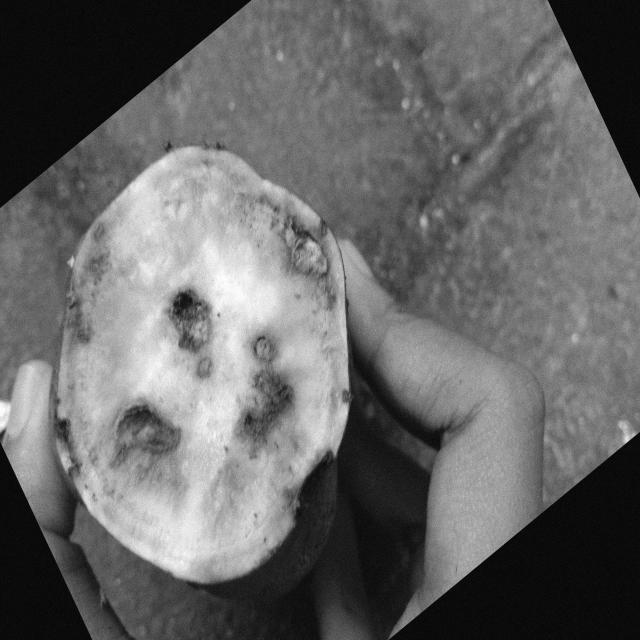Sick Sweet Potato_Tuber Rot: (51, 142, 351, 603)
